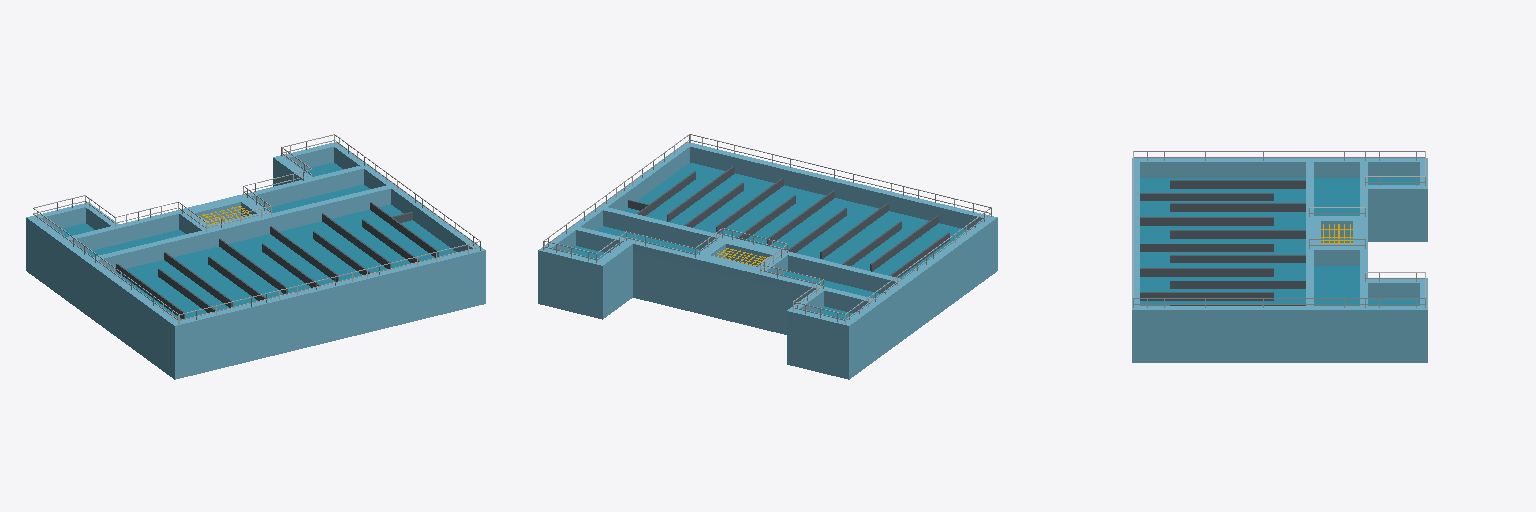
File: disinfect_pool.obj
3 renders of one model, left to right at view 1: azimuth 30°, elevation 25°; view 2: azimuth 150°, elevation 25°; view 3: azimuth 270°, elevation 25°, orthographic.
Visible parts, largest first — view 1: ___, ___.2, ___.33, ___.30, ___.4, ___.6, ___.8, ___.7, ___.5; view 2: ___, ___.2, ___.33, ___.30, ___.13, ___.11, ___.10, ___.14, ___.12, ___.4, ___.6; view 3: ___, ___.2, ___.11, ___.13, ___.6, ___.8, ___.9, ___.4, ___.5, ___.12, ___.14, ___.10 (+2 smaller).
Part boxes in pixels (bbox=[...]): ___: bbox=[26, 142, 485, 379]; ___.2: bbox=[86, 185, 455, 319]; ___.33: bbox=[33, 134, 480, 314]; ___.30: bbox=[33, 140, 480, 320]; ___.4: bbox=[207, 206, 390, 268]; ___.6: bbox=[207, 212, 287, 293]; ___.8: bbox=[164, 218, 232, 307]; ___.7: bbox=[206, 202, 438, 257]; ___.5: bbox=[270, 226, 338, 281]; ___: bbox=[538, 142, 997, 379]; ___.2: bbox=[597, 163, 965, 298]; ___.33: bbox=[544, 134, 991, 314]; ___.30: bbox=[544, 140, 991, 320]; ___.13: bbox=[761, 203, 888, 269]; ___.11: bbox=[716, 178, 787, 263]; ___.10: bbox=[667, 166, 764, 270]; ___.14: bbox=[870, 215, 938, 271]; ___.12: bbox=[760, 190, 834, 273]; ___.4: bbox=[684, 183, 786, 243]; ___.6: bbox=[723, 208, 846, 252]; ___: bbox=[1132, 158, 1427, 362]; ___.2: bbox=[1140, 178, 1359, 305]; ___.11: bbox=[1140, 207, 1364, 276]; ___.13: bbox=[1140, 213, 1364, 225]; ___.6: bbox=[1170, 230, 1305, 238]; ___.8: bbox=[1170, 203, 1305, 211]; ___.9: bbox=[1170, 180, 1305, 188]; ___.4: bbox=[1170, 281, 1305, 288]; ___.5: bbox=[1170, 255, 1305, 262]; ___.12: bbox=[1140, 207, 1365, 251]; ___.14: bbox=[1140, 193, 1273, 200]; ___.10: bbox=[1140, 292, 1273, 300].
Size of the model in its own units: 6022 by 1169 by 4980.